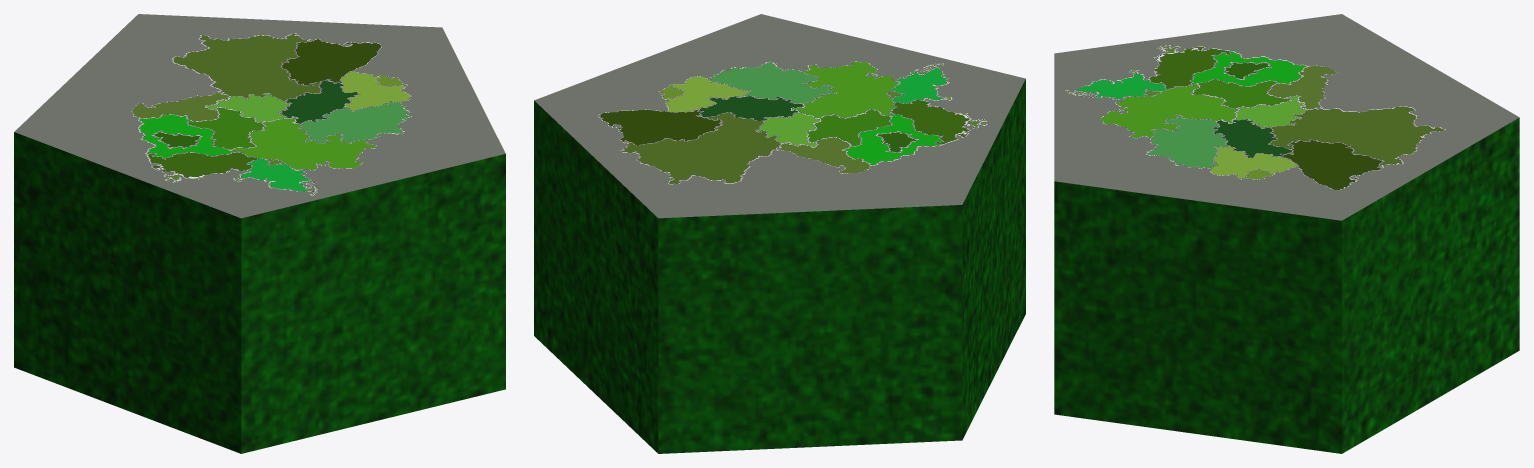
Rendered from Country 1.fbx.
3 views of the same model, side by side, from view 1: azimuth 30°, elevation 25°; view 2: azimuth 150°, elevation 25°; view 3: azimuth 270°, elevation 25° (orthographic).
Visible parts, largest first — view 1: Country; view 2: Country; view 3: Country.
Boxes of the visible parts, x1,y1,x2,y2 form: Country: (14, 14, 505, 453); Country: (534, 14, 1025, 453); Country: (1054, 14, 1519, 453).
Size of the model in its own units: 190 by 100 by 181.
